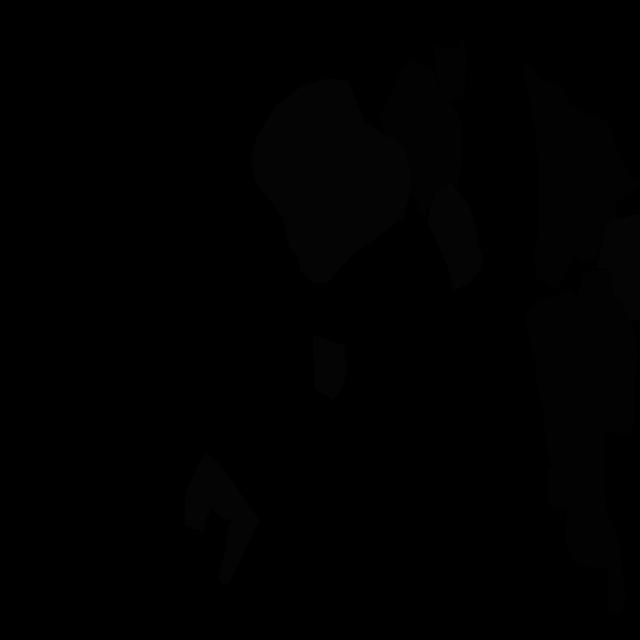cardboard: (522, 59, 640, 291), (525, 269, 638, 434), (545, 412, 626, 614), (379, 58, 462, 217), (434, 36, 468, 103)
soft_plastic: (251, 79, 411, 284), (184, 454, 259, 584), (428, 183, 483, 291), (598, 214, 640, 322), (313, 335, 347, 401)
